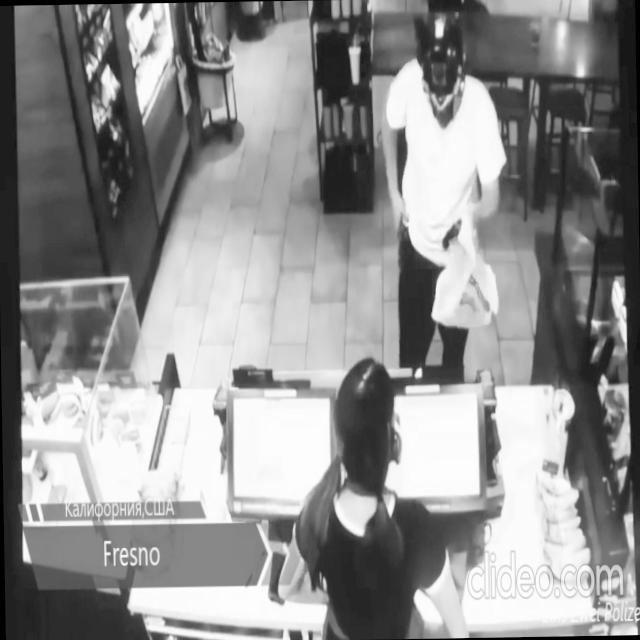gun: (440, 212, 463, 255)
person: (273, 351, 470, 640)
person with a gun: (380, 9, 502, 366)
